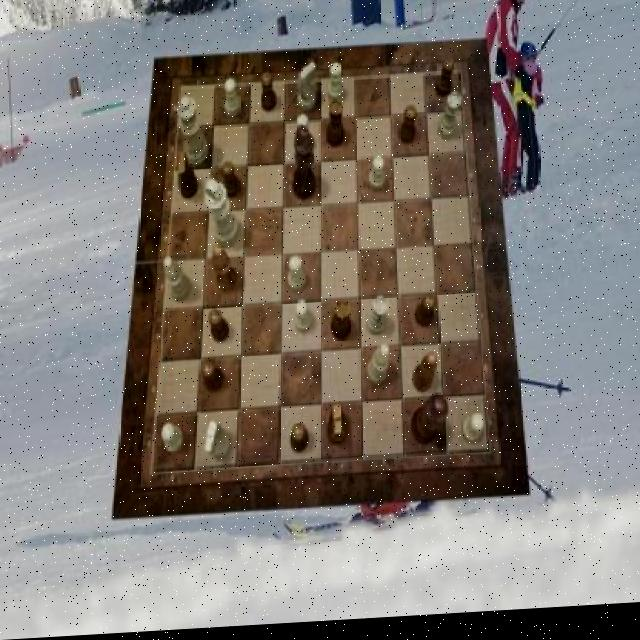bishop: (214, 248, 238, 296), (414, 358, 438, 399)
black-bishop: (292, 127, 316, 204)
black-king: (178, 154, 198, 202), (328, 407, 348, 449)
black-knight: (202, 363, 224, 397), (436, 64, 454, 103), (209, 311, 229, 346), (417, 298, 437, 333), (222, 164, 240, 201), (399, 110, 416, 149), (262, 75, 278, 115), (290, 426, 308, 458)
black-pawn: (411, 397, 448, 452)
black-queen: (331, 304, 352, 346), (328, 104, 345, 152)
black-rook: (165, 257, 192, 304), (368, 348, 390, 389)
white-bishop: (205, 179, 240, 252)
white-king: (204, 423, 232, 463), (299, 65, 316, 115)
white-knight: (162, 425, 184, 457), (463, 421, 486, 449), (295, 302, 313, 337), (288, 260, 305, 297), (224, 81, 240, 120), (328, 67, 344, 106), (369, 161, 386, 196), (296, 118, 312, 155)
white-pawn: (177, 98, 209, 170)
white-queen: (438, 97, 462, 146), (366, 302, 389, 341)
